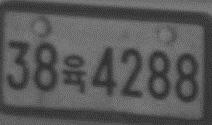2: (119, 46, 144, 98)
3: (7, 39, 29, 92)
4: (90, 44, 119, 96)
8: (33, 40, 58, 91), (175, 52, 199, 102), (147, 49, 170, 100)
육: (61, 52, 88, 95)
